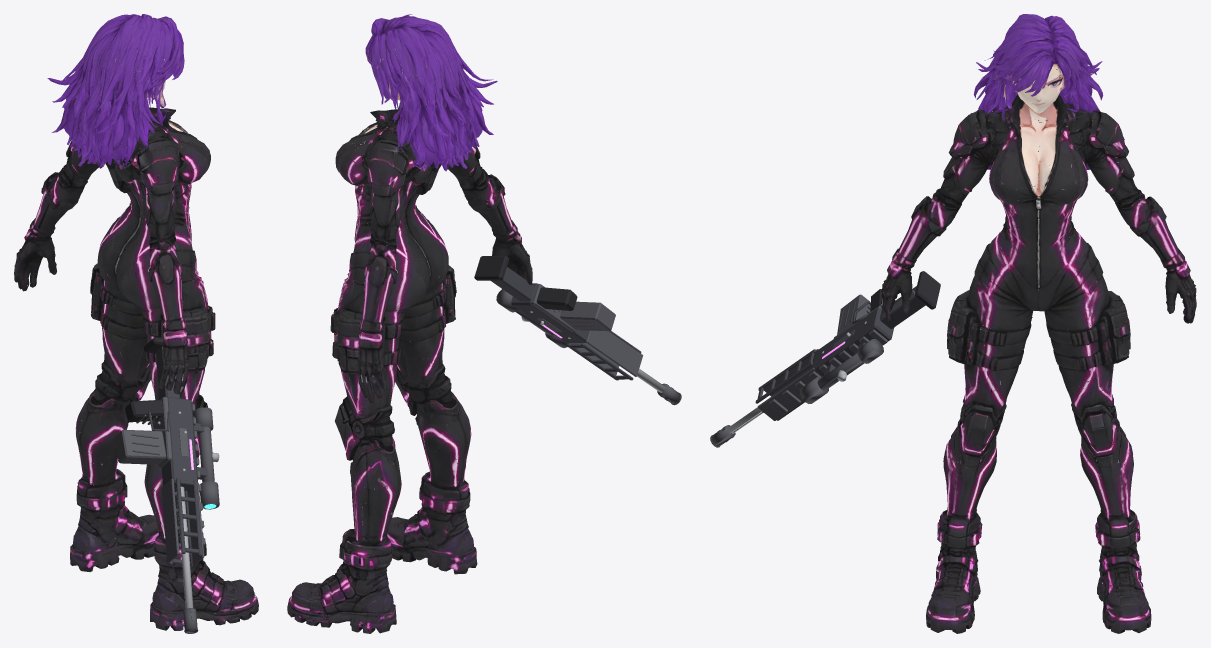
The model's file is bp-akira.glb.
3 views of the same model, side by side, from view 1: azimuth 30°, elevation 25°; view 2: azimuth 150°, elevation 25°; view 3: azimuth 270°, elevation 25° (orthographic).
Parts seen in each view (by area): view 1: AkiraV4_Body, AkiraV4_Rifle_recessed_panel, AkiraV4_Rifle_forged_graphite, AkiraV4_Rifle_grip_rubber, AkiraV4_Rifle_machined_hardware; view 2: AkiraV4_Body, AkiraV4_Rifle_recessed_panel, AkiraV4_Rifle_forged_graphite, AkiraV4_Rifle_grip_rubber; view 3: AkiraV4_Body, AkiraV4_Rifle_recessed_panel, AkiraV4_Rifle_forged_graphite, AkiraV4_Rifle_grip_rubber.
Part boxes in pixels (box(x1,y1,x2,y2)): AkiraV4_Body: box(14, 14, 258, 630); AkiraV4_Rifle_recessed_panel: box(114, 386, 219, 629); AkiraV4_Rifle_forged_graphite: box(131, 346, 207, 633); AkiraV4_Rifle_grip_rubber: box(125, 337, 163, 422); AkiraV4_Rifle_machined_hardware: box(158, 411, 219, 608); AkiraV4_Body: box(287, 14, 532, 633); AkiraV4_Rifle_recessed_panel: box(496, 284, 680, 404); AkiraV4_Rifle_forged_graphite: box(491, 267, 681, 405); AkiraV4_Rifle_grip_rubber: box(474, 256, 577, 310); AkiraV4_Body: box(881, 14, 1196, 633); AkiraV4_Rifle_recessed_panel: box(711, 290, 915, 446); AkiraV4_Rifle_forged_graphite: box(710, 286, 925, 447); AkiraV4_Rifle_grip_rubber: box(870, 271, 940, 311).
Size of the model in its own units: 33.97 by 100 by 76.
Materials: 8 (1 with a texture image).
